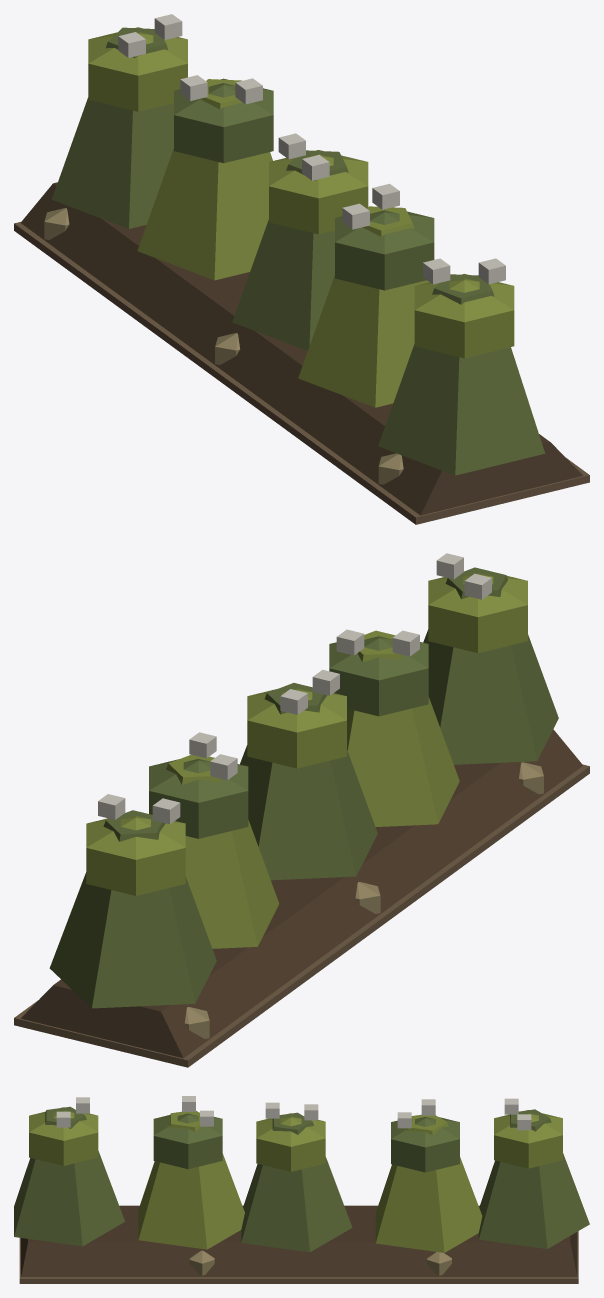
File: crop_potato_s3.glb
3 renders of one model, top to bottom at view 1: azimuth 30°, elevation 25°; view 2: azimuth 150°, elevation 25°; view 3: azimuth 270°, elevation 25°, orthographic. The views are drawn at different scales.
Visible parts, largest first — view 1: crop_potato_s3_mesh; view 2: crop_potato_s3_mesh; view 3: crop_potato_s3_mesh.
Boxes of the visible parts, <box> form: crop_potato_s3_mesh: <box>14,14,589,524</box>; crop_potato_s3_mesh: <box>14,553,589,1067</box>; crop_potato_s3_mesh: <box>14,1096,589,1283</box>.
Size of the model in its own units: 0.5 by 0.58 by 2.06.
